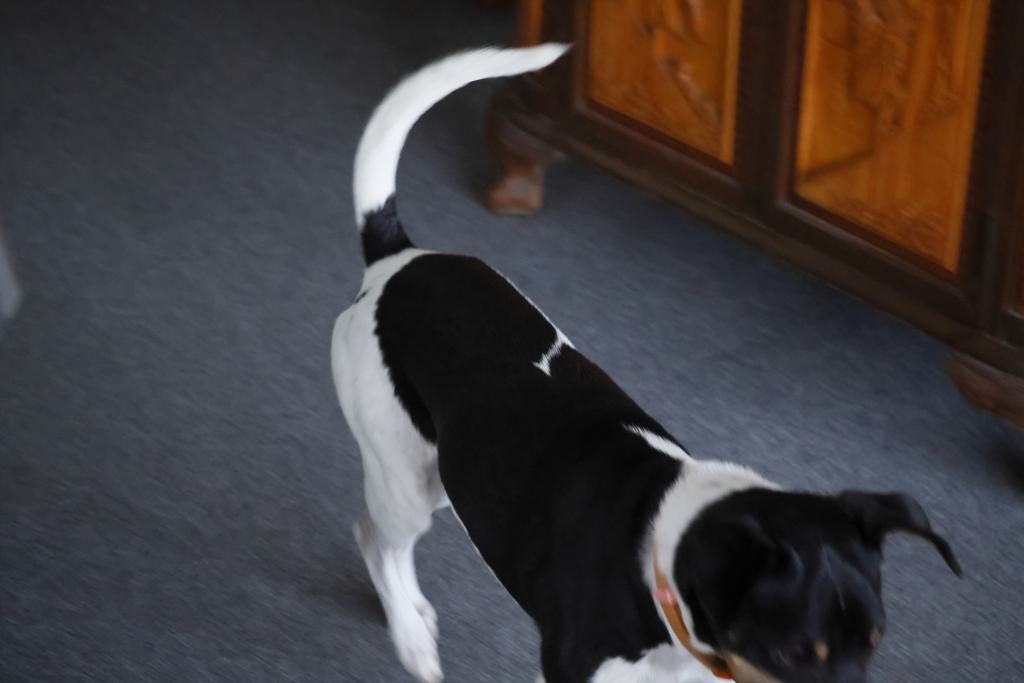Dog: (316, 34, 976, 683)
